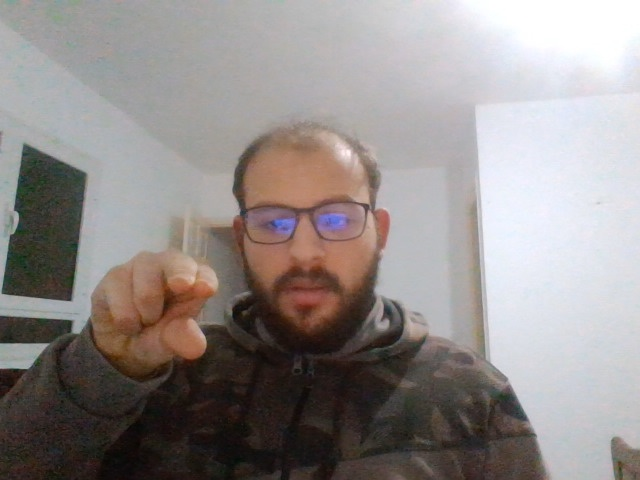No: (94, 251, 216, 361)
